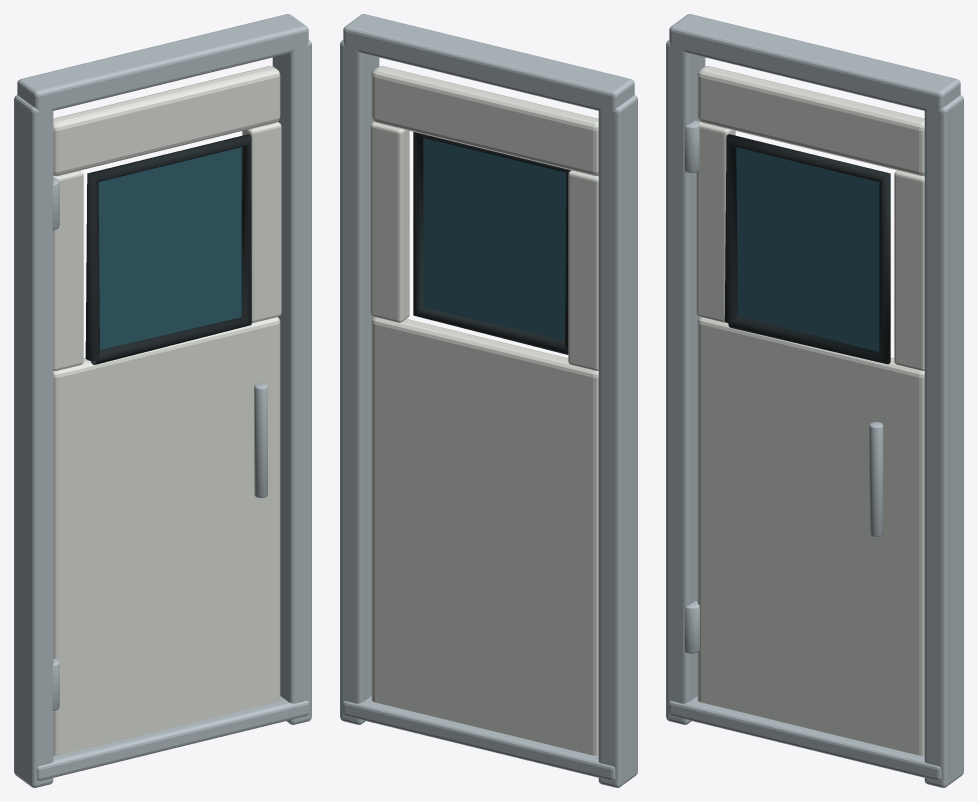
The model's file is watertight_door.glb.
3 views of the same model, side by side, from view 1: azimuth 30°, elevation 25°; view 2: azimuth 150°, elevation 25°; view 3: azimuth 330°, elevation 25° (orthographic).
Visible parts, largest first — view 1: Door lower leaf, Door jamb, Door glazing, Door jamb.001, Door upper leaf, Door frame header, Window gasket, Door window stile.001, Door window stile, Door sill, Door pull; view 2: Door lower leaf, Door jamb, Door glazing, Door jamb.001, Door upper leaf, Door frame header, Door window stile.001, Door window stile, Door sill, Window gasket; view 3: Door lower leaf, Door jamb.001, Door glazing, Door jamb, Door upper leaf, Door frame header, Window gasket, Door window stile.001, Door window stile, Door sill, Door pull, Door hinge.001 (+1 smaller).
Part boxes in pixels (x1,y1,x2,y2): Door lower leaf: (53, 317, 280, 755); Door jamb: (14, 95, 53, 787); Door glazing: (98, 147, 241, 349); Door jamb.001: (272, 40, 311, 724); Door upper leaf: (53, 66, 280, 175); Door frame header: (17, 14, 308, 111); Window gasket: (85, 134, 251, 364); Door window stile.001: (242, 121, 281, 322); Door window stile: (53, 170, 83, 370); Door sill: (36, 696, 309, 780); Door pull: (254, 383, 267, 497); Door lower leaf: (371, 317, 598, 755); Door jamb: (598, 95, 637, 787); Door glazing: (423, 138, 566, 340); Door jamb.001: (340, 40, 379, 724); Door upper leaf: (371, 66, 598, 175); Door frame header: (343, 14, 634, 111); Door window stile.001: (370, 121, 409, 322); Door window stile: (568, 170, 598, 370); Door sill: (342, 696, 615, 780); Window gasket: (413, 132, 570, 354); Door lower leaf: (697, 317, 924, 755); Door jamb.001: (924, 95, 963, 787); Door glazing: (736, 147, 879, 351); Door jamb: (666, 40, 705, 724); Door upper leaf: (697, 66, 924, 175); Door frame header: (669, 14, 960, 111); Window gasket: (724, 134, 890, 364); Door window stile.001: (894, 170, 924, 370); Door window stile: (696, 121, 735, 322); Door sill: (668, 696, 941, 780); Door pull: (869, 422, 883, 536); Door hinge.001: (685, 120, 699, 172).
Size of the model in its own units: 0.88 by 2.08 by 0.179.
